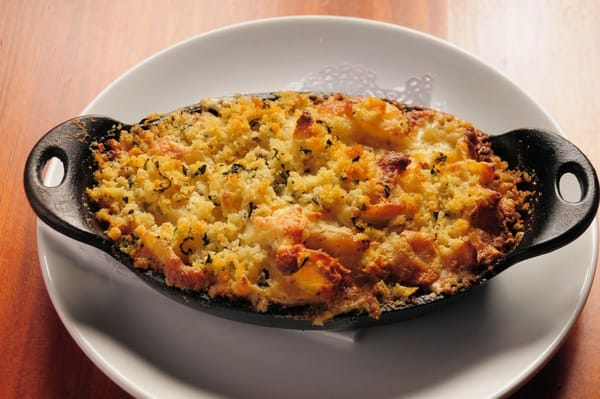curry: (3, 2, 592, 394)
sandwich: (68, 90, 557, 326)
